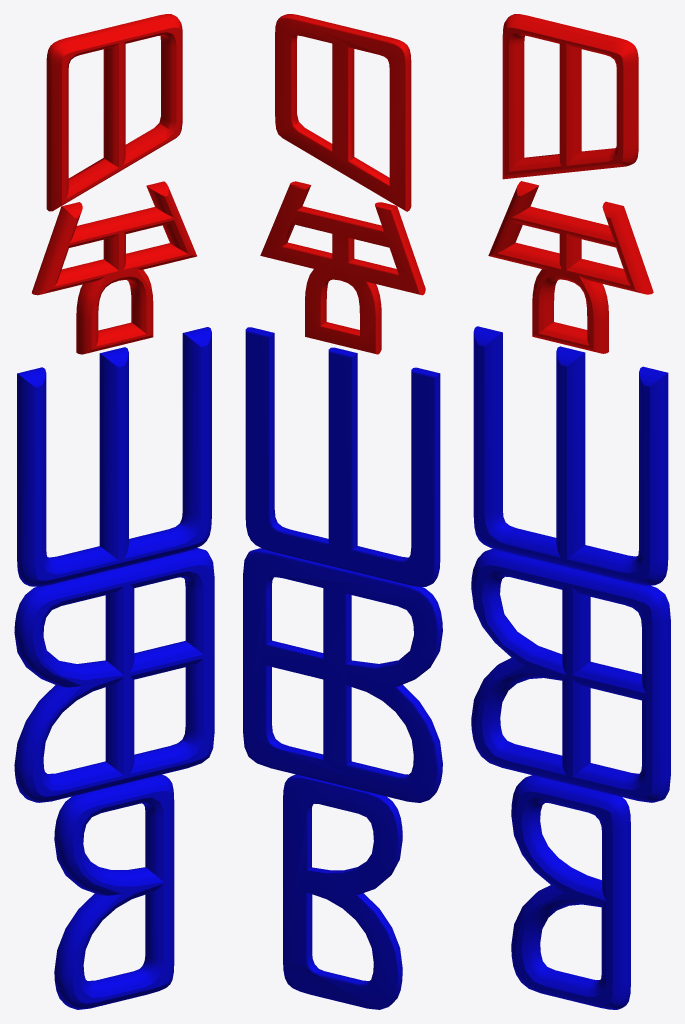
File: Text_sign_14.fbx
The picture shows the model from 3 angles, left to right: view 1: azimuth 30°, elevation 25°; view 2: azimuth 150°, elevation 25°; view 3: azimuth 330°, elevation 25°; orthographic projection.
Visible parts, largest first — view 1: Text_sign_14; view 2: Text_sign_14; view 3: Text_sign_14.
Part boxes in pixels (x1,y1,x2,y2): Text_sign_14: [14, 14, 214, 1009]; Text_sign_14: [243, 14, 442, 1009]; Text_sign_14: [471, 14, 670, 1009].
Size of the model in its own units: 29.04 by 137 by 2.47.
